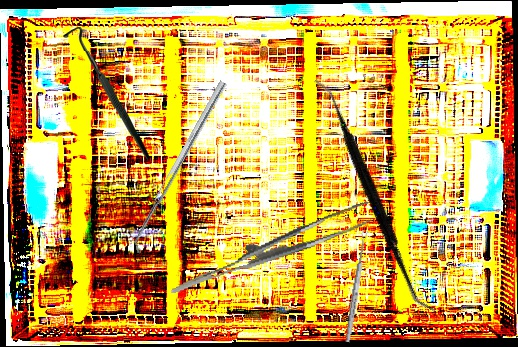Hook Surgical: (62, 24, 151, 163)
Spatula Surgical: (243, 77, 507, 314), (127, 80, 234, 255)
Surgical Spoon: (344, 230, 369, 343)
Tissue Forceps: (161, 201, 379, 294)
